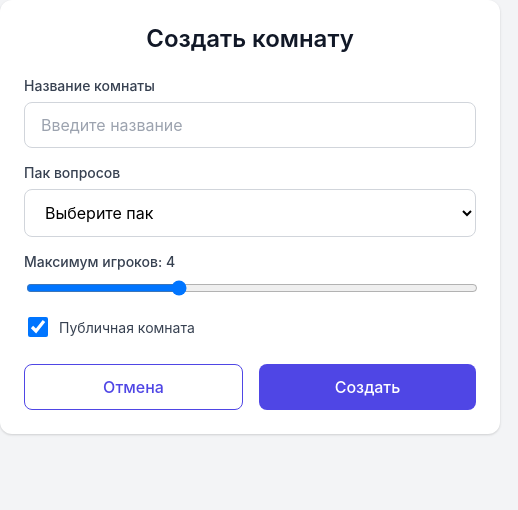
CreateRoomForm › показывает ошибку при коротком названии (менее 3 символов)
The width and height of the screenshot is (518, 510).
Type "ab" into the field with placeholder "Введите название" at (250, 125), box x1=24 y1=102 x2=476 y2=148
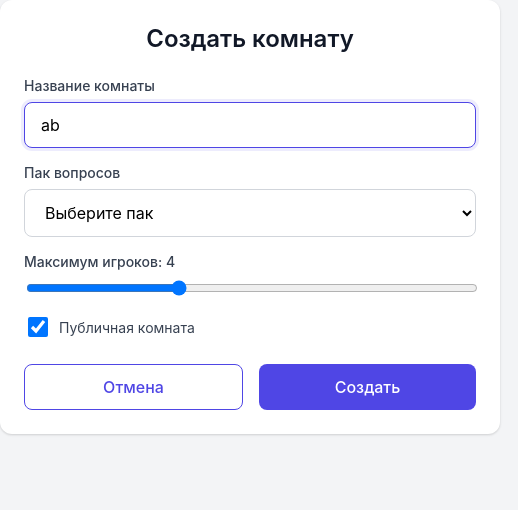
Select "Общие знания (автор: Admin)" in the dropdown at (250, 213), box x1=24 y1=189 x2=476 y2=237
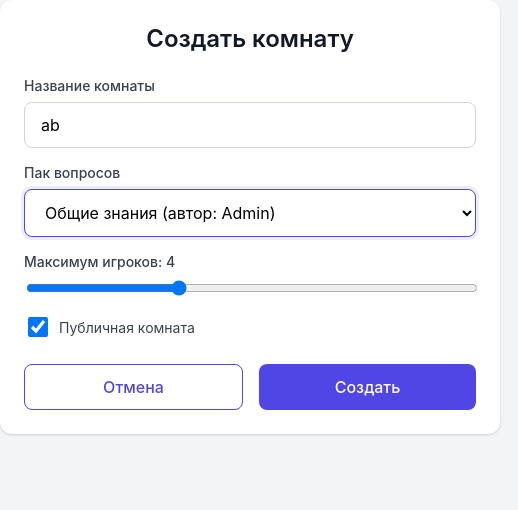
Click the button "Создать" at (368, 387), box x1=259 y1=364 x2=476 y2=410
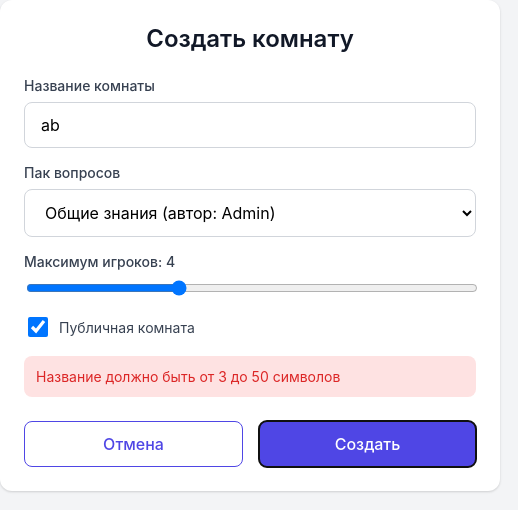
Expected: the text "Название должно быть от 3 до 50 символов" is shown, x1=24 y1=356 x2=476 y2=397
